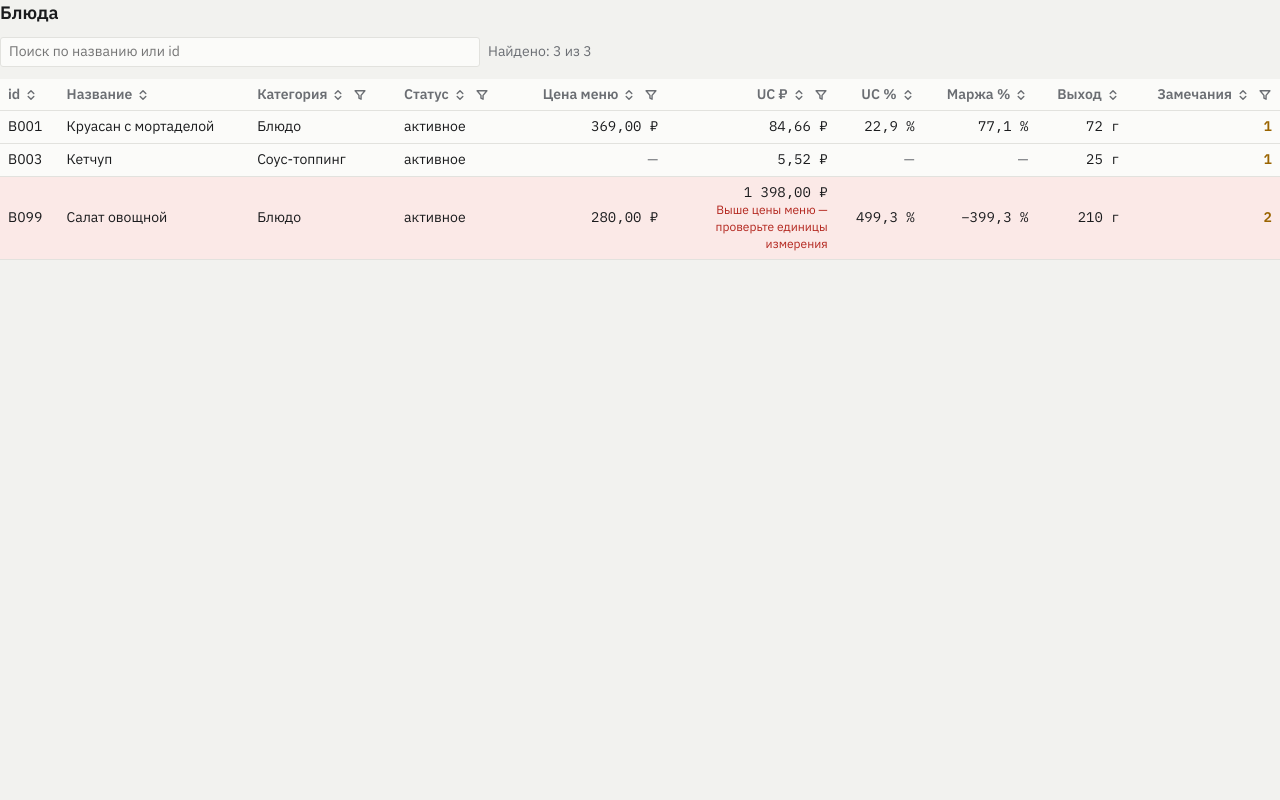
Test: при открытой панели кнопки шапки срабатывают с первого нажатия
What coordinates should you click on to do the following:
click the button named "Фильтр: Статус"
I would click on:
 (482, 95)
Its box is [471,84,493,106].
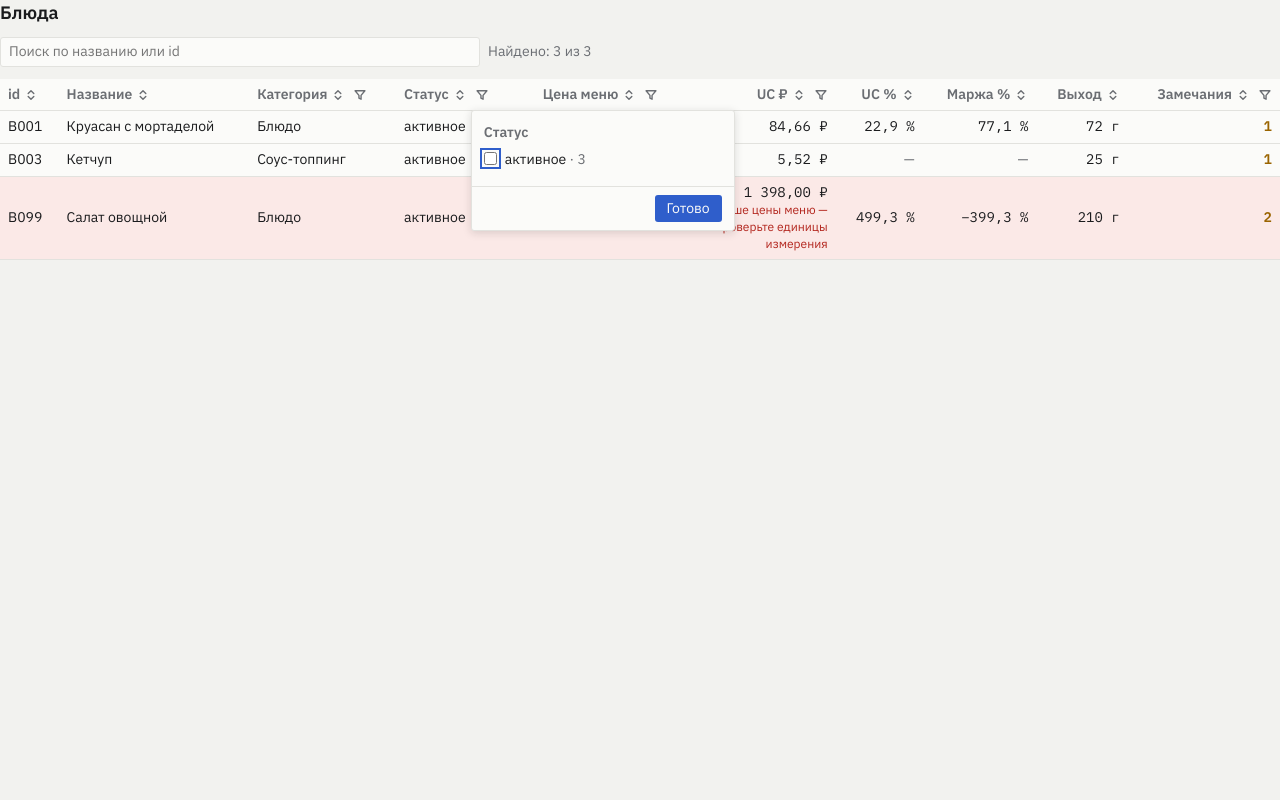
What coordinates should you click on to do the following:
click the button named "Фильтр: Категория"
I would click on:
 (360, 95)
Its box is [349,84,371,106].
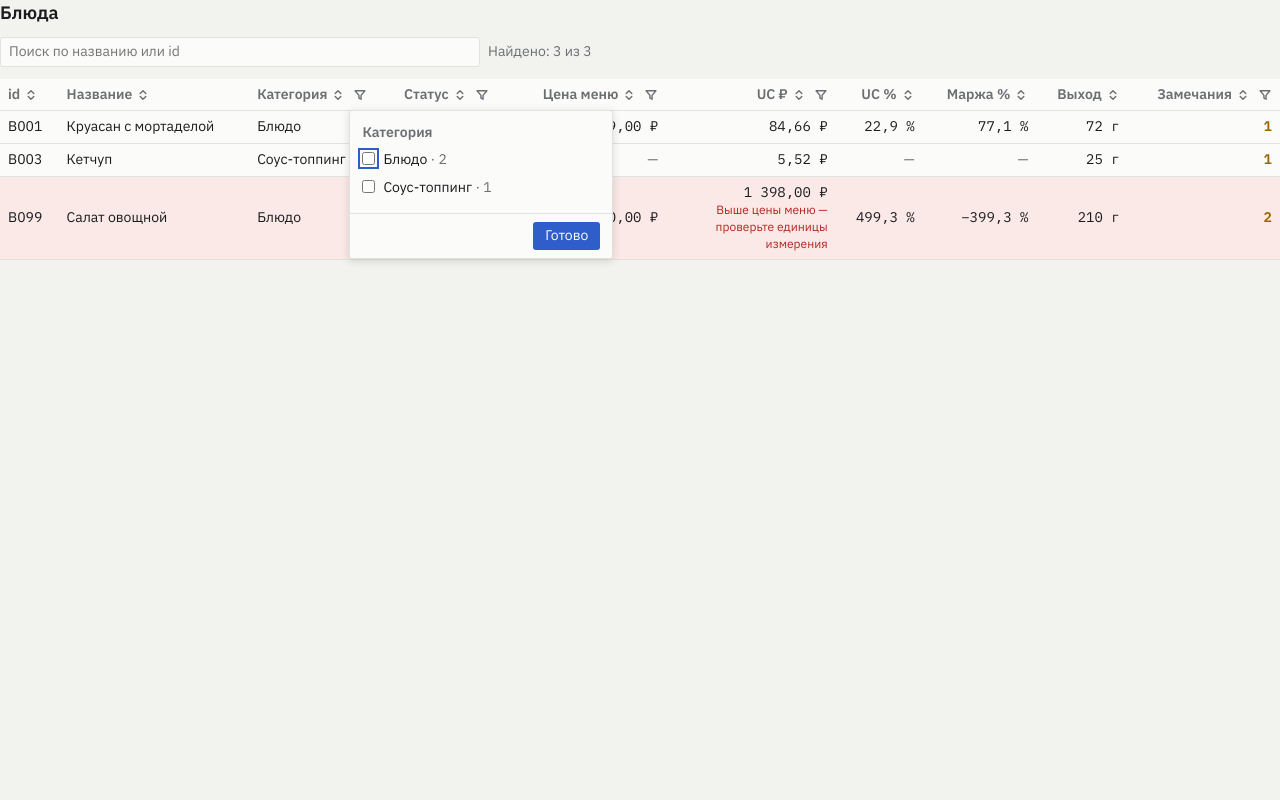
Result: the dialog named "Фильтр: Категория" is shown at [349,110,613,259]
What coordinates should you click on to do the following:
click the button "Маржа %"
I would click on:
 (988, 95)
Its box is [947,85,1028,104].
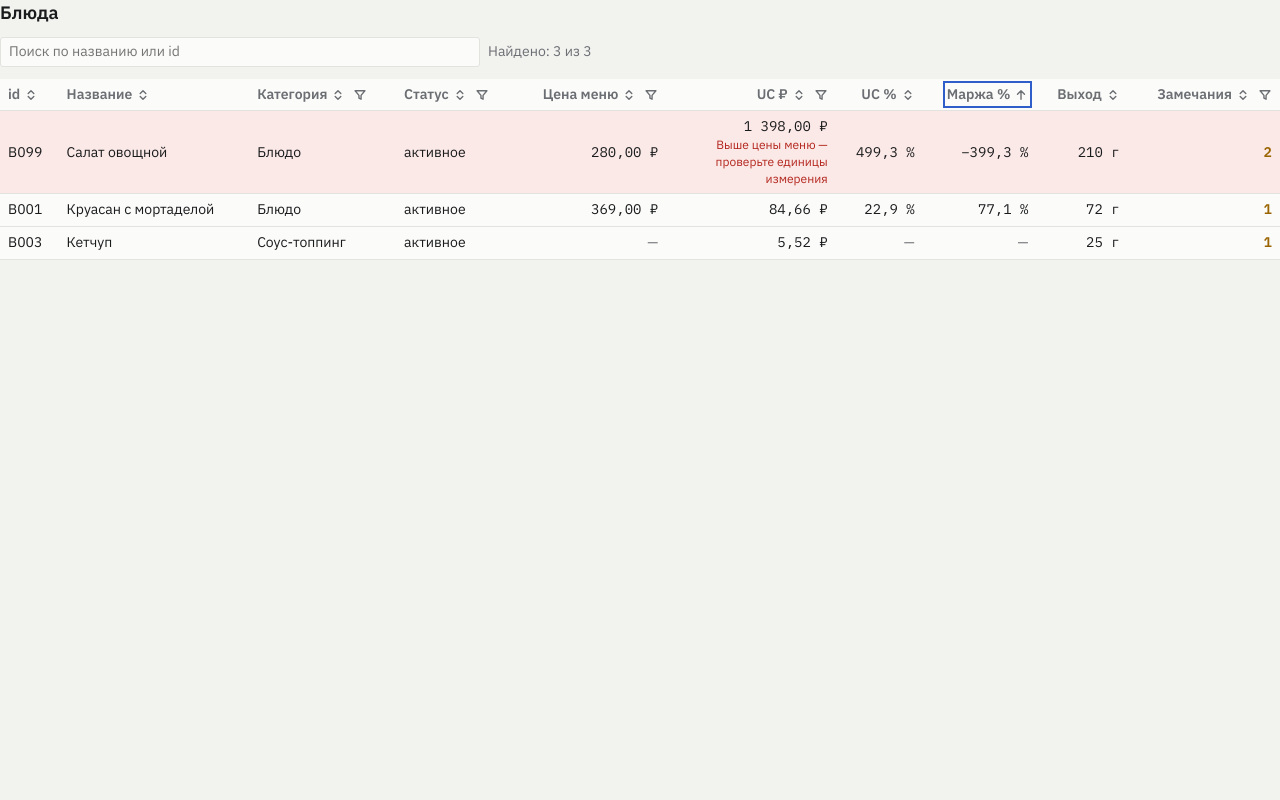
Result: the dialog is gone
